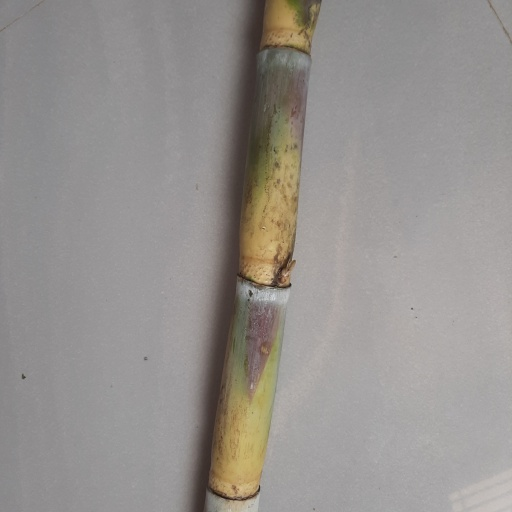Sprouted_Bud: (274, 253, 298, 289)
